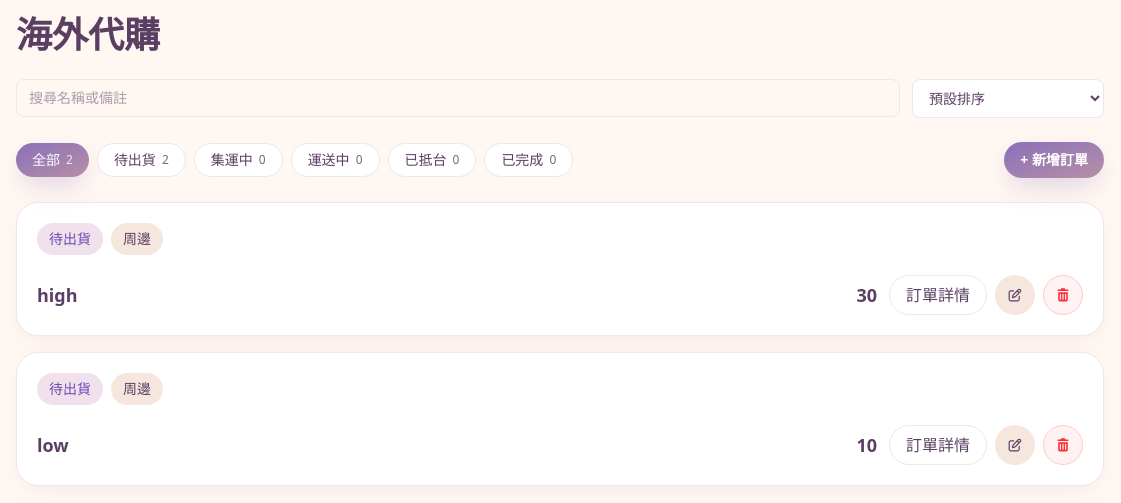
Test case: OrderList search and sort › sorts the list by amount when a sort option is selected
Select "金額：低到高" in the dropdown at (1008, 98), box [912,79,1104,118]
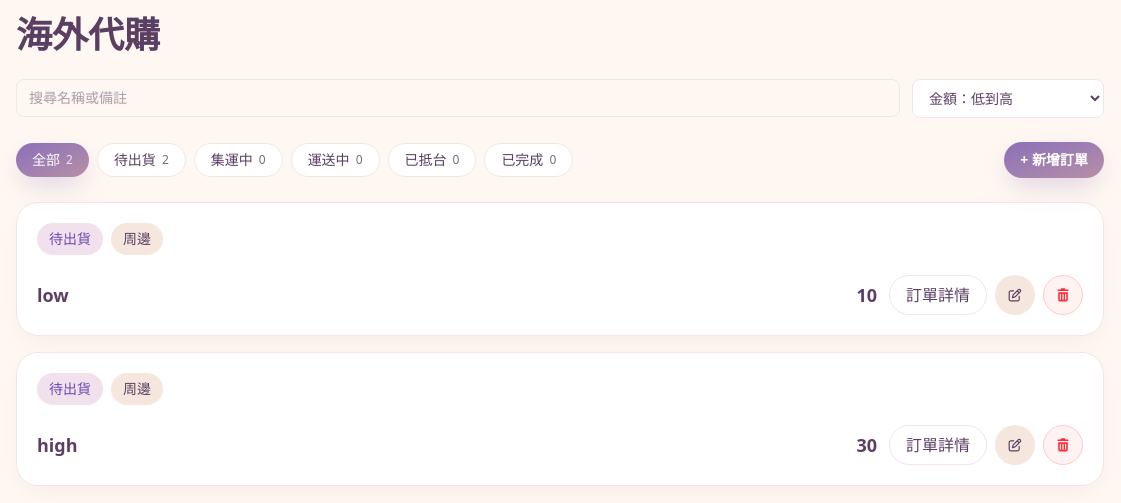
Expected: the headings read "low", "high", in this order, [37,281,69,309]; [37,431,78,459]
